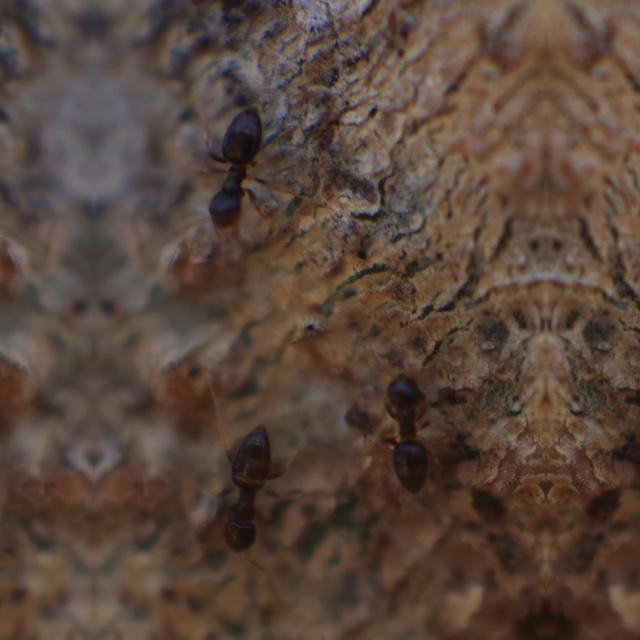Tapinoma: (180, 84, 282, 256), (361, 346, 447, 509), (208, 414, 284, 566)
